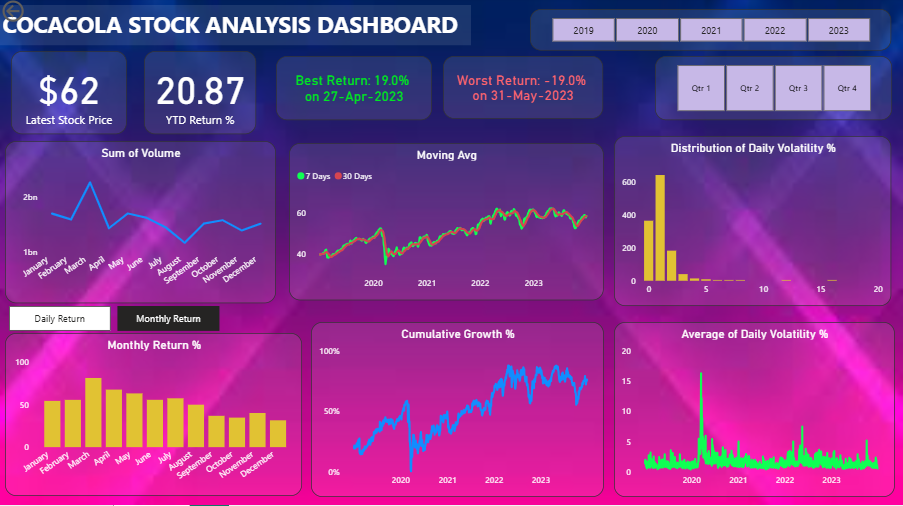

What the dashboard file says about the page in this screenshot:
{"tool":"powerbi","page":{"name":"Page 1","canvas":[1280,720],"ordinal":0},"visuals":[{"type":"lineChart","title":"Sum of Volume ","fields":{"Y":["Sum(public cocacola_stock.Volume)"],"Category":["public cocacola_stock.Date.Variation.Date Hierarchy.Month"]},"box":[8.6,203.9,383.8,229.6],"z":0},{"type":"slicer","fields":{"Values":["public cocacola_stock.Date.Variation.Date Hierarchy.Quarter"]},"box":[930.4,84,335.9,90.8],"z":1000},{"type":"textbox","box":[0,11.3,669,56.7],"z":2000},{"type":"card","fields":{"Values":["public cocacola_stock.Latest Adj Close"]},"box":[17.1,77.1,164.5,118.2],"z":3000},{"type":"actionButton","box":[0,0,100,40],"z":4000},{"type":"card","fields":{"Values":["public cocacola_stock.Best Day Return Date"]},"box":[392.9,83.6,221.4,90.9],"z":6000},{"type":"card","fields":{"Values":["public cocacola_stock.Worst Day Return Date"]},"box":[629,83.6,227.3,89.4],"z":7000},{"type":"columnChart","title":"Monthly Return % ","fields":{"Category":["public cocacola_stock.Date.Variation.Date Hierarchy.Month"],"Y":["public cocacola_stock.Monthly Return %"]},"box":[8.6,475.9,421.4,230.8],"z":8000},{"type":"slicer","fields":{"Values":["public cocacola_stock.Date.Variation.Date Hierarchy.Year"]},"box":[753.2,16.7,512,59.4],"z":9000},{"type":"lineChart","title":"Cumulative Growth %","fields":{"Category":["public cocacola_stock.Date"],"Y":["public cocacola_stock.Cumulative Growth %"]},"box":[442.2,460.6,415.3,248],"z":10000},{"type":"lineChart","title":"Average of Daily Volatility % ","fields":{"Y":["Avg(public cocacola_stock.Daily Volatility %)"],"Category":["public cocacola_stock.Date"]},"box":[872.2,460.9,397.5,248.5],"z":11000},{"type":"lineChart","title":"Moving Avg","fields":{"Category":["public cocacola_stock.Date"],"Y":["public cocacola_stock.MA_7Days","public cocacola_stock.MA_30Days"]},"box":[411.2,207.3,445.5,222.8],"z":12000},{"type":"bookmarkNavigator","box":[13.7,438.7,298.2,36],"z":13000},{"type":"card","fields":{"Values":["public cocacola_stock.YTD Return %"]},"box":[205.6,77.1,159.4,118.2],"z":14000},{"type":"columnChart","title":"Distribution of Daily Volatility %","fields":{"Category":["public cocacola_stock.Daily Volatility % (bins)"],"Y":["CountNonNull(public cocacola_stock.Date)"]},"box":[871.9,196.6,393.3,241.2],"z":15000}]}

Visuals, with their boxes in screenshot pixels (x1, y1, x2, y2), scaled from the page's 1280x720 canvas onto the 903x506 screenshot:
"Sum of Volume " lineChart: (x1=6, y1=143, x2=277, y2=305)
slicer - public cocacola_stock.Date.Variation.Date Hierarchy.Quarter: (x1=656, y1=59, x2=893, y2=123)
textbox: (x1=0, y1=8, x2=472, y2=48)
card - public cocacola_stock.Latest Adj Close: (x1=12, y1=54, x2=128, y2=137)
actionButton: (x1=0, y1=0, x2=71, y2=28)
card - public cocacola_stock.Best Day Return Date: (x1=277, y1=59, x2=433, y2=123)
card - public cocacola_stock.Worst Day Return Date: (x1=444, y1=59, x2=604, y2=122)
"Monthly Return % " columnChart: (x1=6, y1=334, x2=303, y2=497)
slicer - public cocacola_stock.Date.Variation.Date Hierarchy.Year: (x1=531, y1=12, x2=893, y2=53)
"Cumulative Growth %" lineChart: (x1=312, y1=324, x2=605, y2=498)
"Average of Daily Volatility % " lineChart: (x1=615, y1=324, x2=896, y2=499)
"Moving Avg" lineChart: (x1=290, y1=146, x2=604, y2=302)
bookmarkNavigator: (x1=10, y1=308, x2=220, y2=334)
card - public cocacola_stock.YTD Return %: (x1=145, y1=54, x2=257, y2=137)
"Distribution of Daily Volatility %" columnChart: (x1=615, y1=138, x2=893, y2=308)
